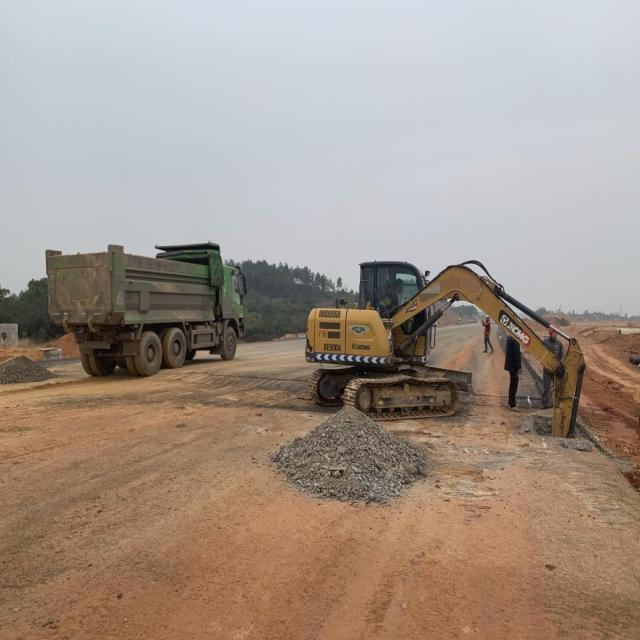excavator: (295, 243, 592, 453)
truck: (41, 230, 257, 385)
